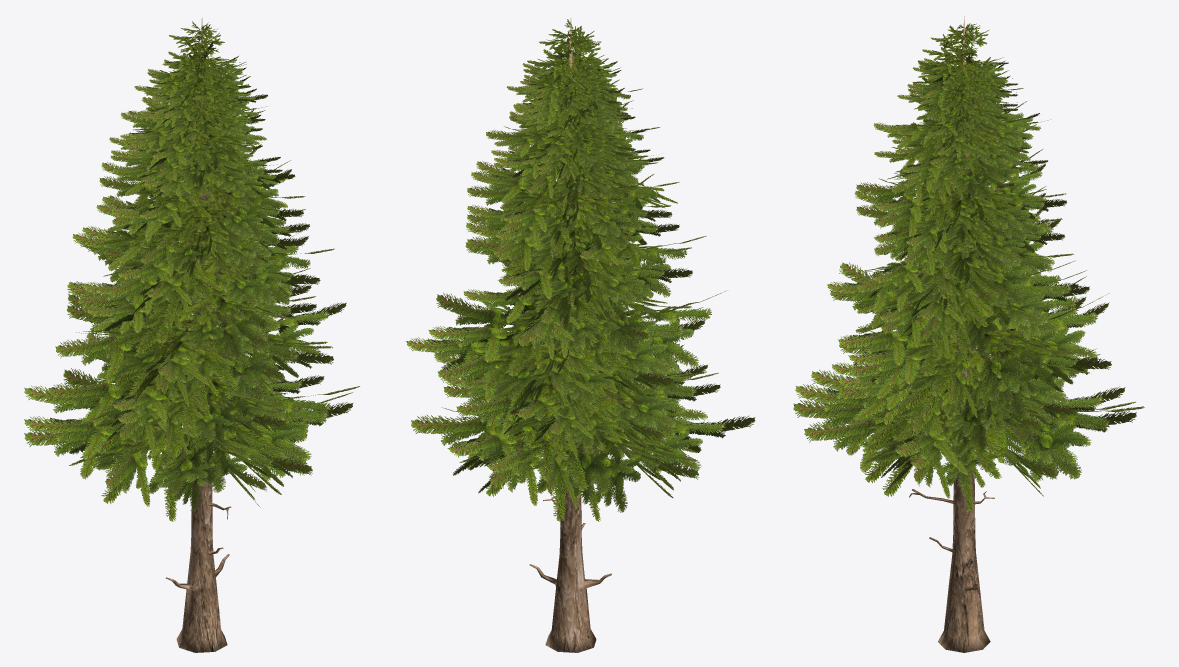
The model's file is tree.glb.
3 views of the same model, side by side, from view 1: azimuth 30°, elevation 25°; view 2: azimuth 150°, elevation 25°; view 3: azimuth 270°, elevation 25° (orthographic).
Visible parts, largest first — view 1: Plane.002; view 2: Plane.002; view 3: Plane.002.
Boxes of the visible parts, x1,y1,x2,y2 form: Plane.002: [24, 18, 359, 652]; Plane.002: [406, 18, 755, 652]; Plane.002: [793, 16, 1144, 652].
Size of the model in its own units: 5.08 by 9.28 by 5.07.
2 materials, 2 textured.
